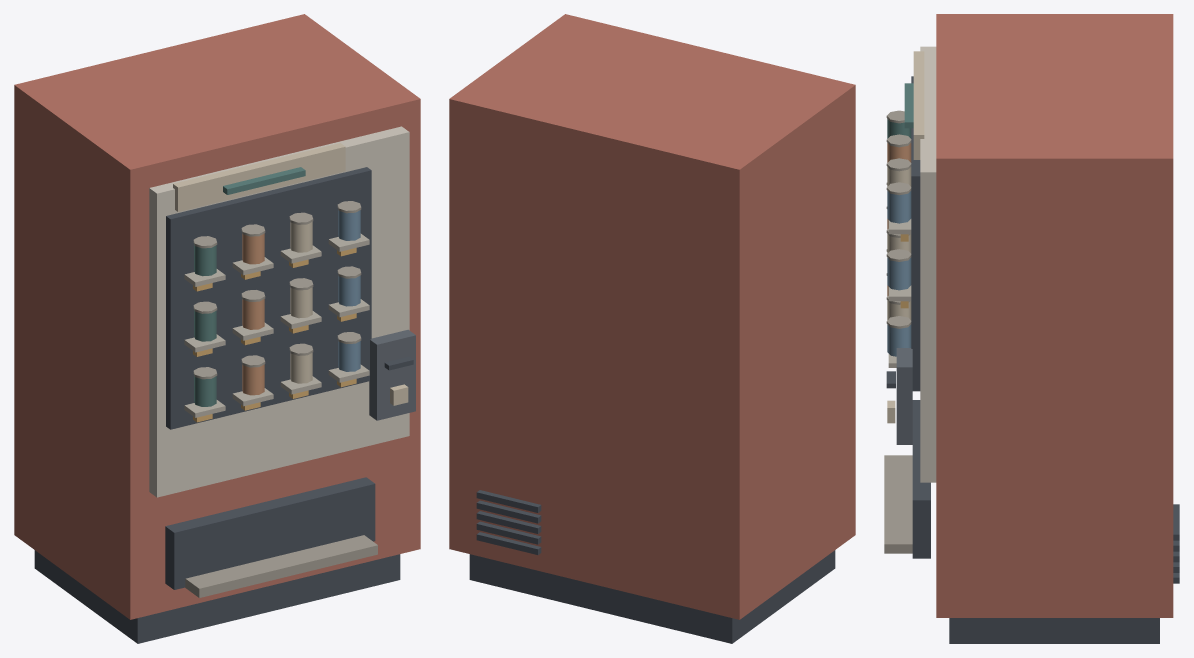
File: komachi-vending-machine.glb
3 renders of one model, left to right at view 1: azimuth 30°, elevation 25°; view 2: azimuth 150°, elevation 25°; view 3: azimuth 270°, elevation 25°, orthographic. The views are drawn at different scales.
Visible parts, largest first — view 1: Vending_Machine; view 2: Vending_Machine; view 3: Vending_Machine.
Boxes of the visible parts, x1,y1,x2,y2 form: Vending_Machine: [14, 14, 420, 643]; Vending_Machine: [449, 14, 855, 643]; Vending_Machine: [884, 14, 1179, 643].
Size of the model in its own units: 0.26 by 0.4125 by 0.2245.
